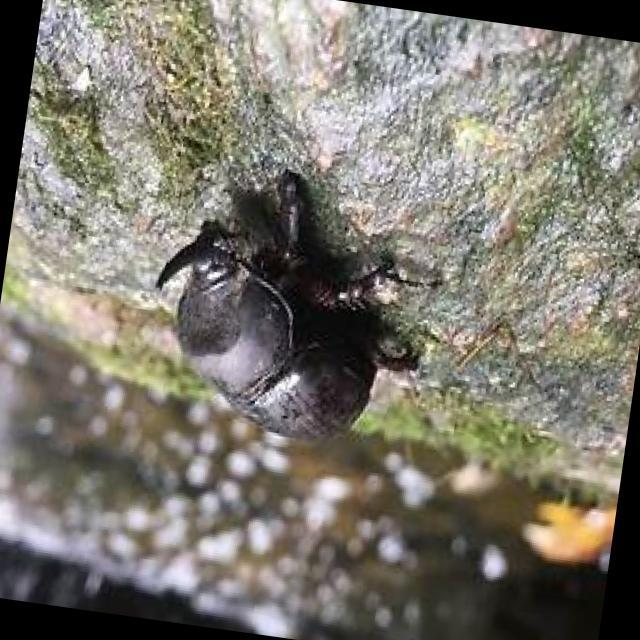Rhino-beetle: (147, 199, 465, 435)
